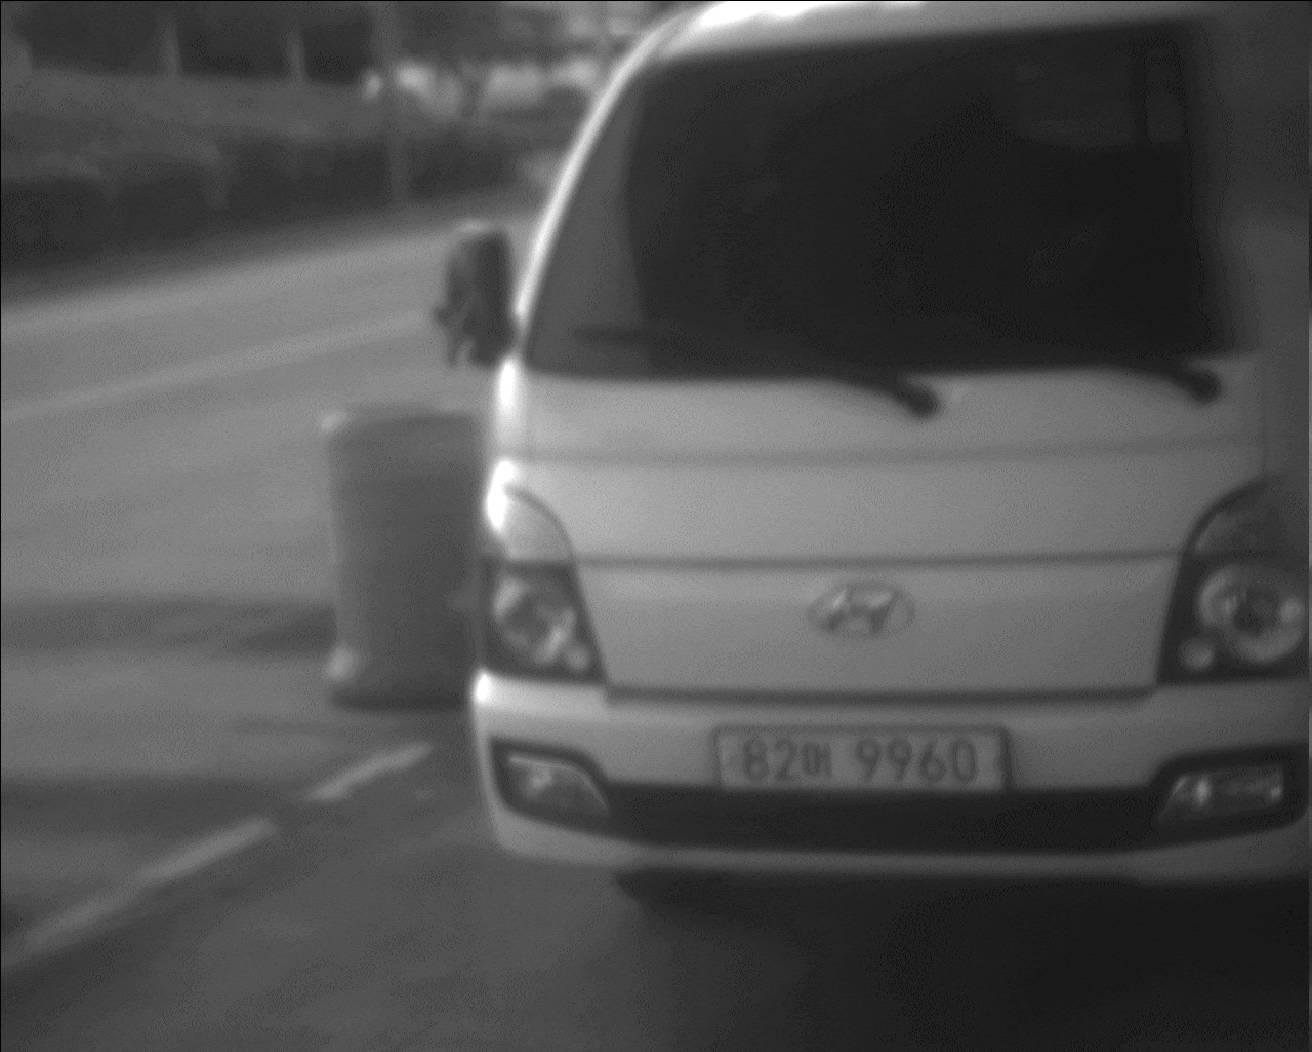car: (434, 1, 1312, 924)
plate: (706, 723, 1017, 800)
